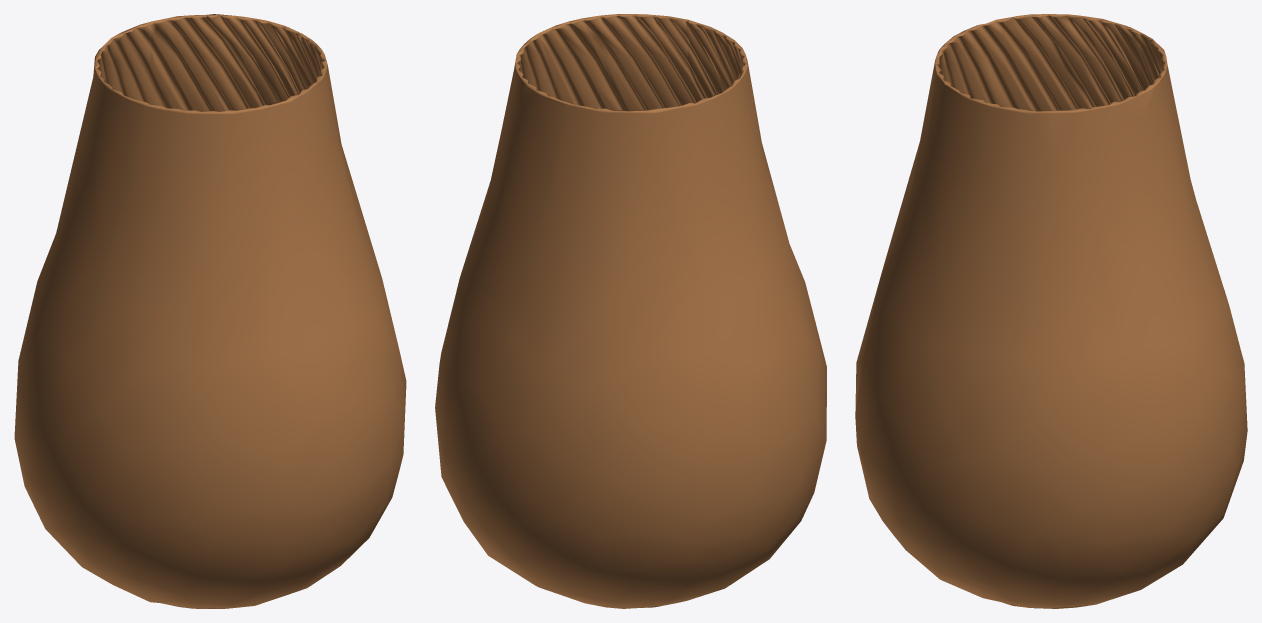
The model's file is 09 - PÅSKÖTRÄD Vase - glasslight brown 20 cm.glb.
The picture shows the model from 3 angles, left to right: view 1: azimuth 30°, elevation 25°; view 2: azimuth 150°, elevation 25°; view 3: azimuth 270°, elevation 25°; orthographic projection.
Parts seen in each view (by area): view 1: ASY_ART_10610538_S01_NV01; view 2: ASY_ART_10610538_S01_NV01; view 3: ASY_ART_10610538_S01_NV01.
Part boxes in pixels (<box>): ASY_ART_10610538_S01_NV01: <box>14,14,406,608</box>; ASY_ART_10610538_S01_NV01: <box>435,14,826,608</box>; ASY_ART_10610538_S01_NV01: <box>855,14,1247,608</box>.
Bounding box in the file's own units: 0.1403 × 0.2004 × 0.14.
Materials: 1 (1 with a texture image).
